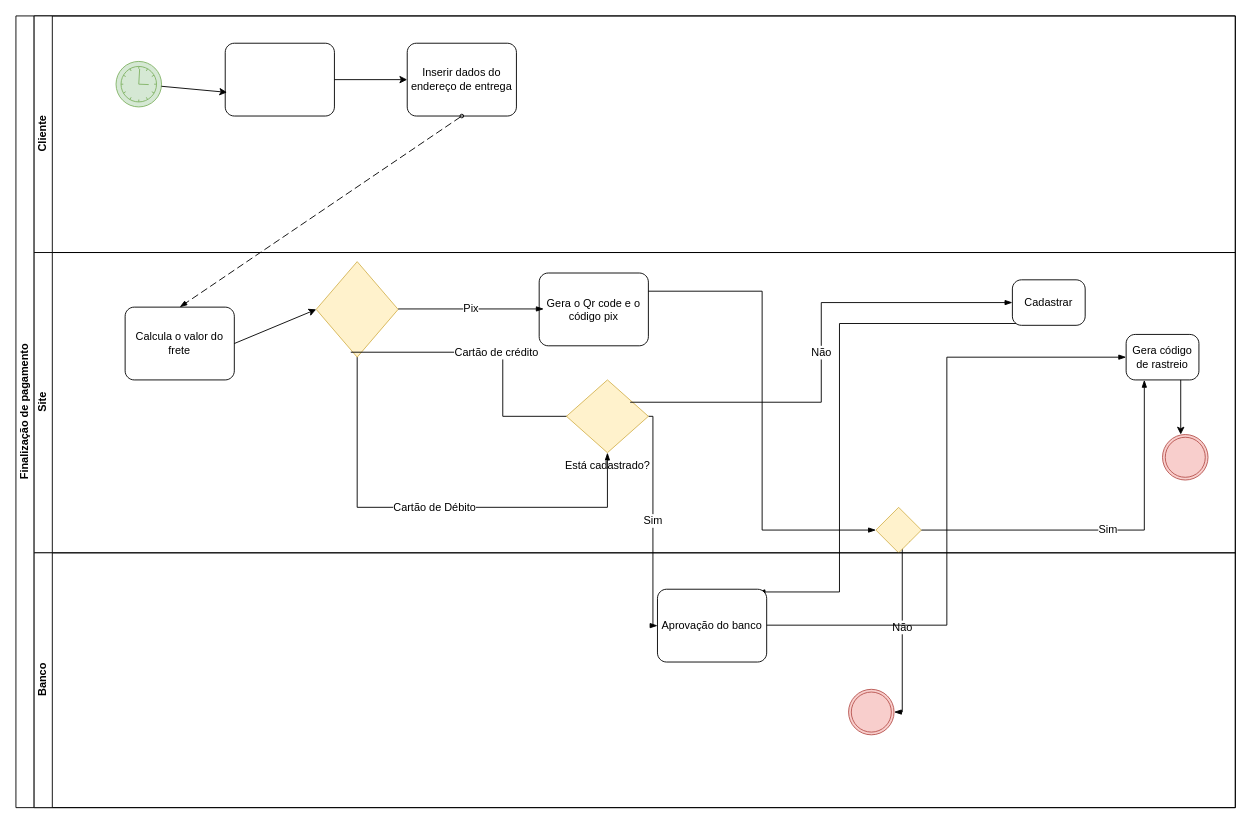
The diagram is 1251 pixels wide and 824 high, and some of its shapes have lost their labels. The shapes that lost their labels are listed below. From the top down, each one's centre as x and y in pixels, then its label:
point 279,79: Botão de finalizar compra
point 356,309: Deseja pagar com com qual método de pagamento
point 1185,457: Compra finalizada
point 898,529: Transação aceita?
point 871,711: Pagamento rejeitado
